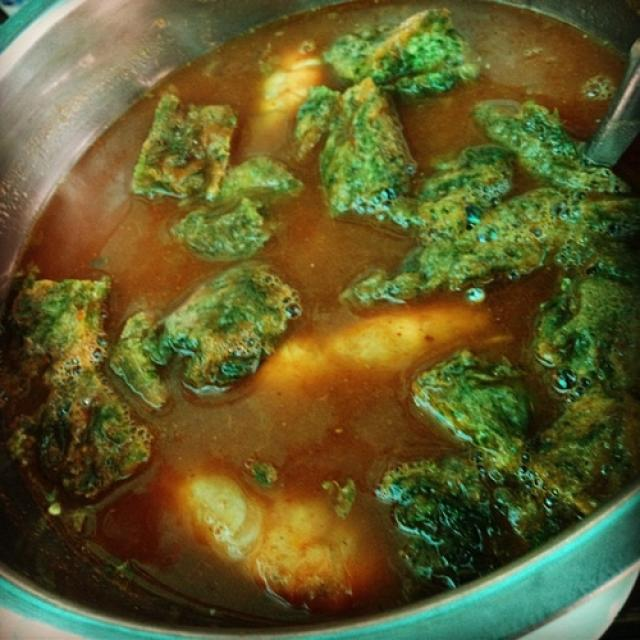汤锅炖物: (5, 16, 621, 624)
